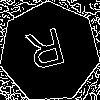R: (24, 27, 70, 80)
